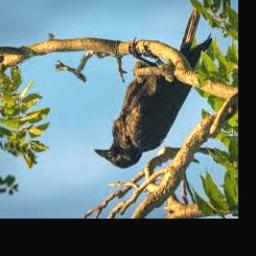Crow: (94, 10, 212, 169)
